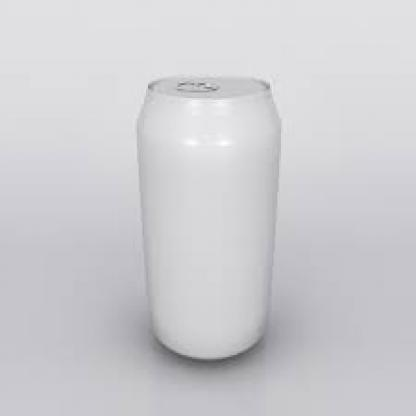METAL: (137, 76, 279, 359)
